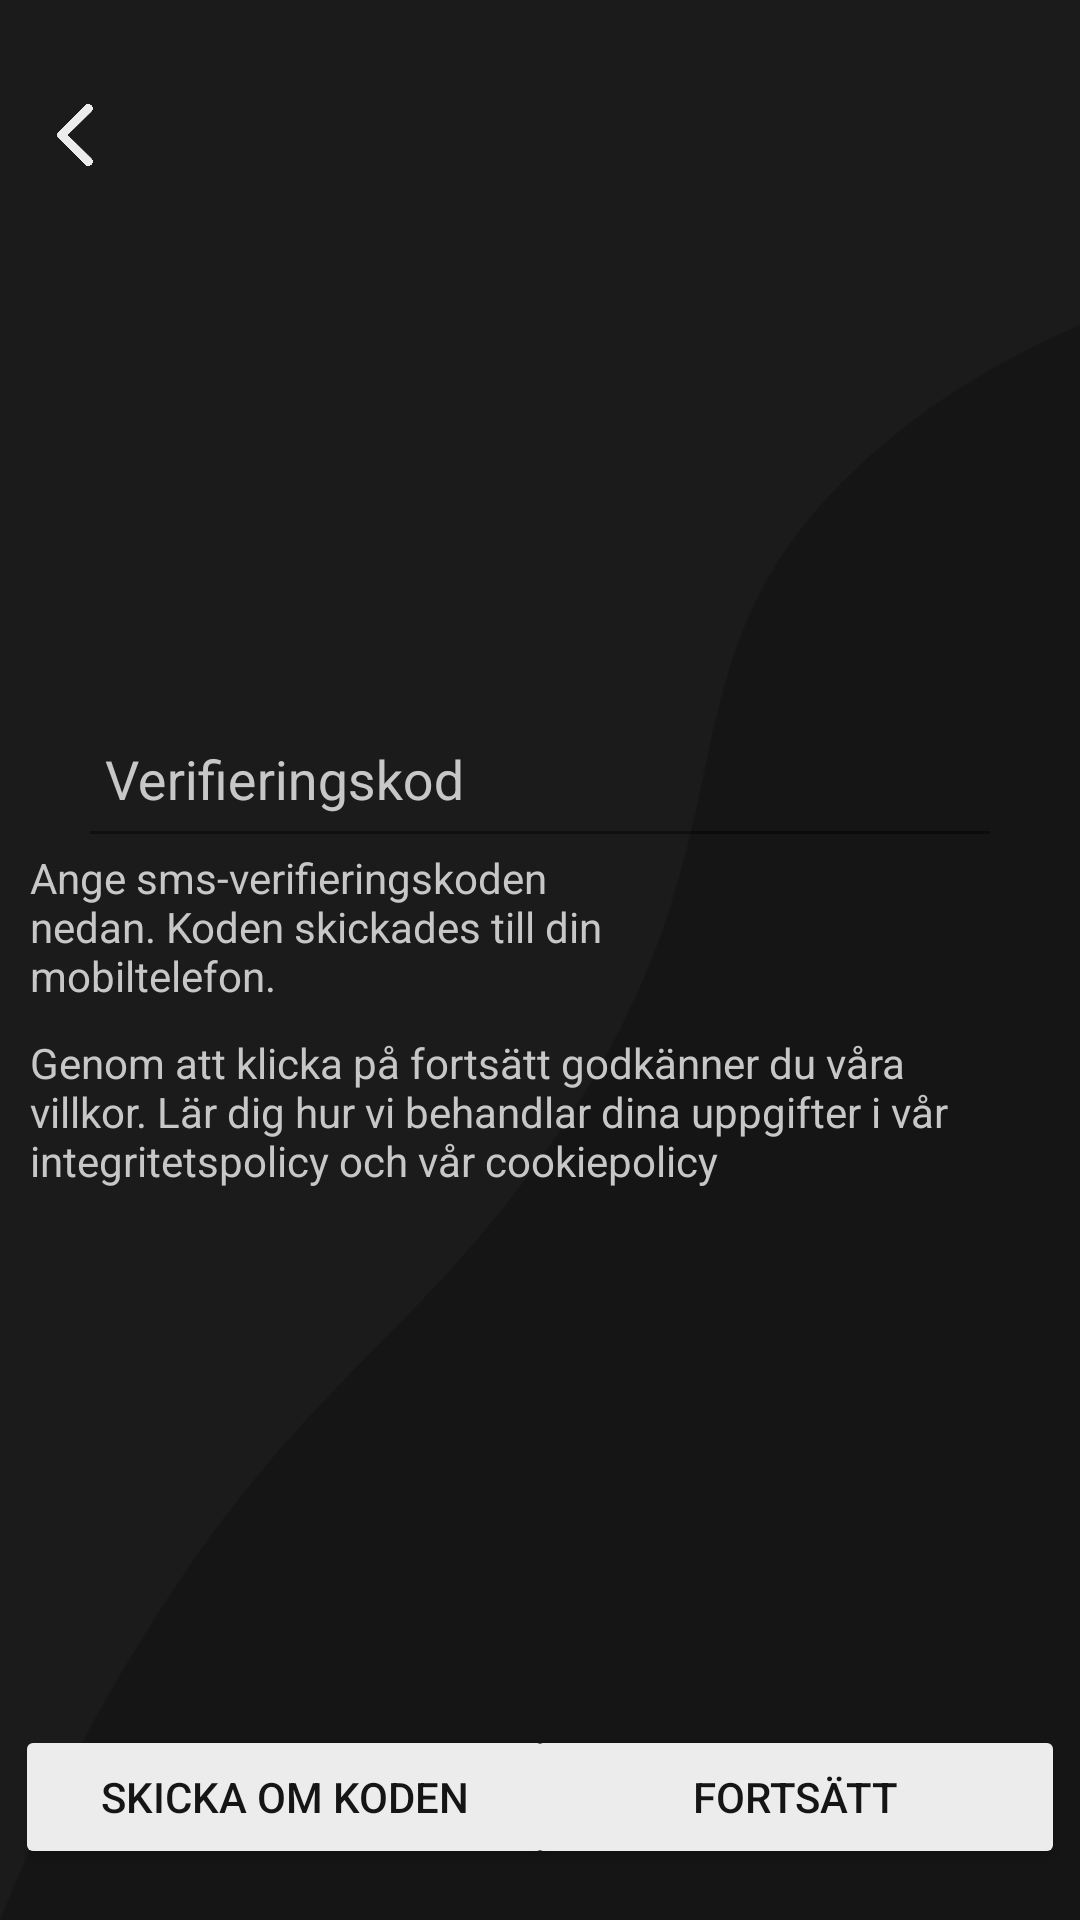

Screen size 1080 x 1920. Icon name, then its box in pixels as (x1, y1, x2, y2):
back arrow: (57, 104, 93, 166)
